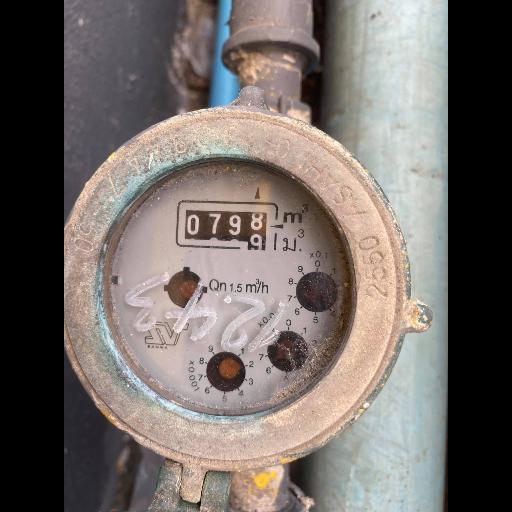0: (185, 210, 207, 240)
7: (205, 211, 228, 241)
8: (248, 212, 267, 251)
9: (227, 211, 250, 242)
border_water_meter_number: (175, 198, 279, 252)
